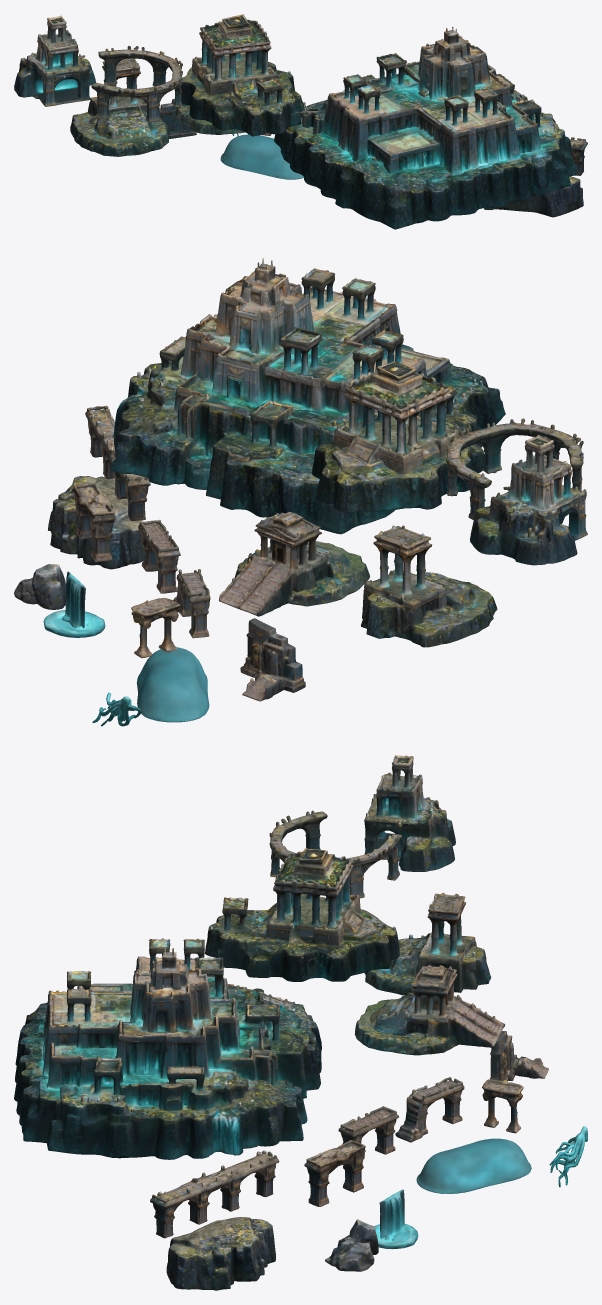
The model's file is البنايات البعيدة.glb.
3 renders of one model, top to bottom at view 1: azimuth 30°, elevation 25°; view 2: azimuth 150°, elevation 25°; view 3: azimuth 270°, elevation 25°, orthographic. The views are drawn at different scales.
Parts seen in each view (by area): view 1: world; view 2: world; view 3: world.
Part boxes in pixels (x1,y1,x2,y2): world: (14, 14, 587, 229); world: (14, 258, 587, 726); world: (14, 755, 587, 1290).
Size of the model in its own units: 0.999 by 0.4626 by 0.8714.
1 material, 1 textured.
